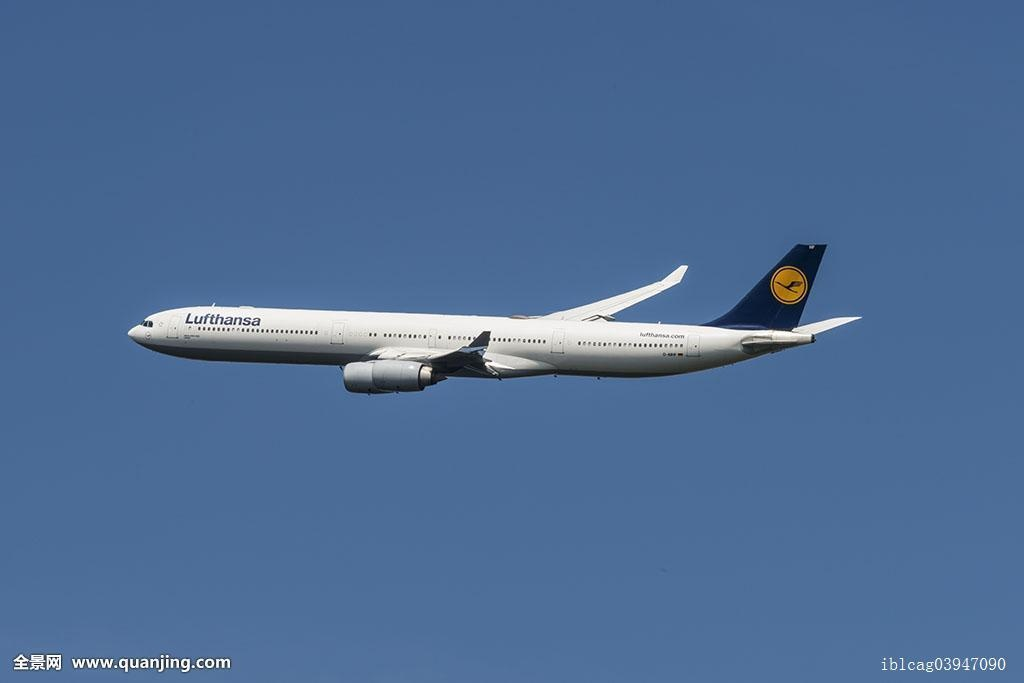airplane: (129, 238, 865, 393)
